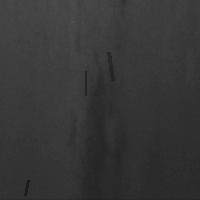inclusion: (79, 42, 126, 198), (70, 26, 87, 67), (106, 50, 114, 82), (23, 178, 30, 197), (83, 69, 87, 97)
